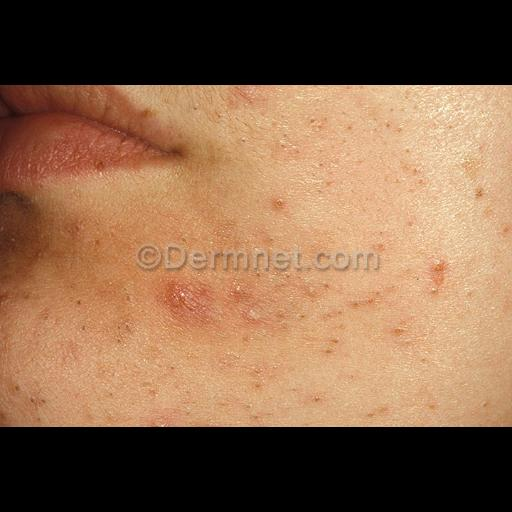Skin_Lesion: (164, 285, 204, 321), (308, 274, 334, 304), (457, 149, 483, 177), (362, 407, 398, 427), (404, 159, 426, 189), (112, 316, 134, 346), (248, 361, 266, 397), (387, 121, 411, 145), (241, 306, 263, 332), (355, 295, 385, 313), (224, 280, 248, 302), (136, 378, 158, 402), (264, 194, 290, 214), (243, 401, 263, 427), (279, 138, 303, 158), (431, 258, 449, 282), (238, 86, 262, 104), (323, 336, 341, 358), (119, 284, 137, 306), (276, 312, 292, 336), (90, 160, 114, 176), (265, 234, 283, 252), (36, 312, 56, 328), (370, 240, 386, 258), (29, 396, 49, 410), (424, 397, 444, 411), (496, 218, 508, 238), (302, 120, 330, 128), (308, 392, 324, 406), (176, 234, 196, 244), (164, 362, 178, 376), (70, 222, 86, 234), (4, 238, 28, 246), (41, 240, 53, 256), (394, 324, 404, 342), (76, 298, 90, 310), (238, 135, 252, 147), (405, 217, 417, 231), (12, 380, 24, 392), (474, 190, 484, 200), (80, 324, 90, 334), (482, 396, 490, 408)
